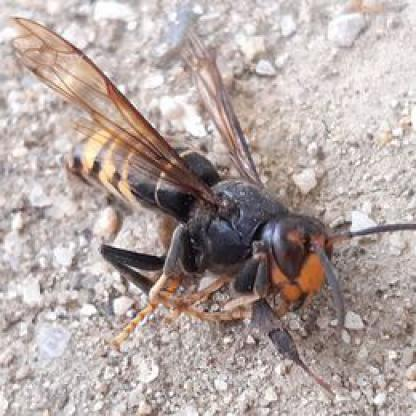Asian Hornet: (20, 17, 364, 386)
